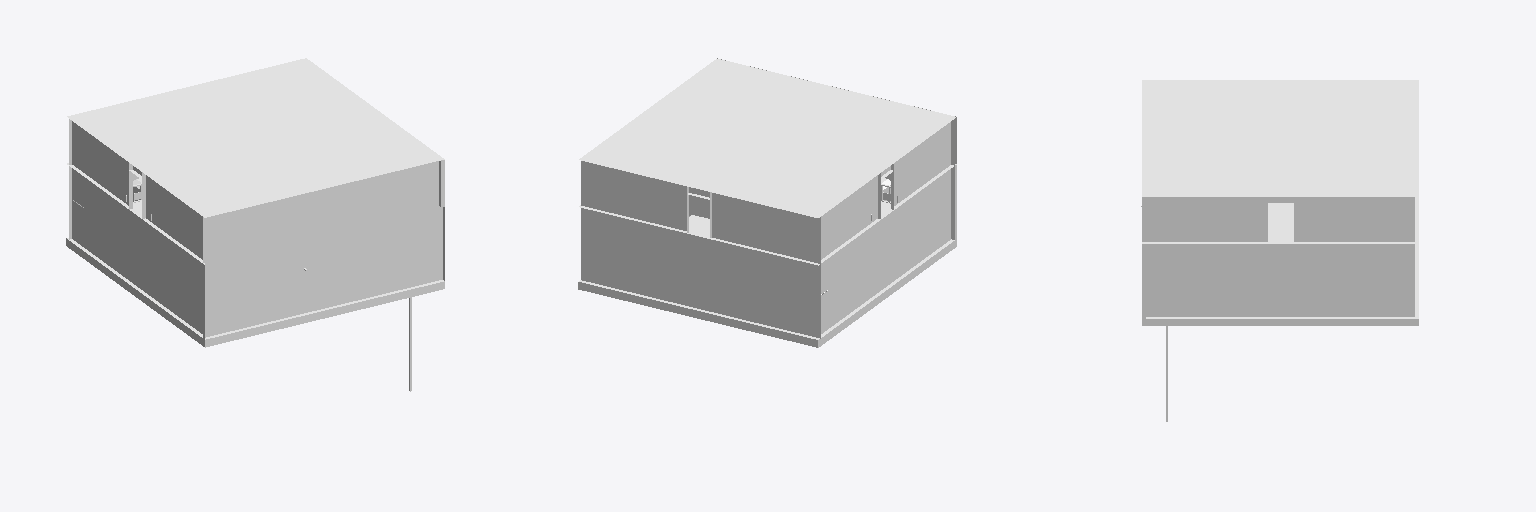
The model's file is RZ_room3_servers.obj.
3 renders of one model, left to right at view 1: azimuth 30°, elevation 25°; view 2: azimuth 150°, elevation 25°; view 3: azimuth 270°, elevation 25°, orthographic.
Parts seen in each view (by area): view 1: OZ_room3_servers; view 2: OZ_room3_servers; view 3: OZ_room3_servers.
Boxes of the visible parts, <box> form: OZ_room3_servers: <box>66,58,444,391</box>; OZ_room3_servers: <box>578,58,956,347</box>; OZ_room3_servers: <box>1141,80,1418,421</box>.
Bounding box in the file's own units: 20.48 × 19.21 × 20.56.